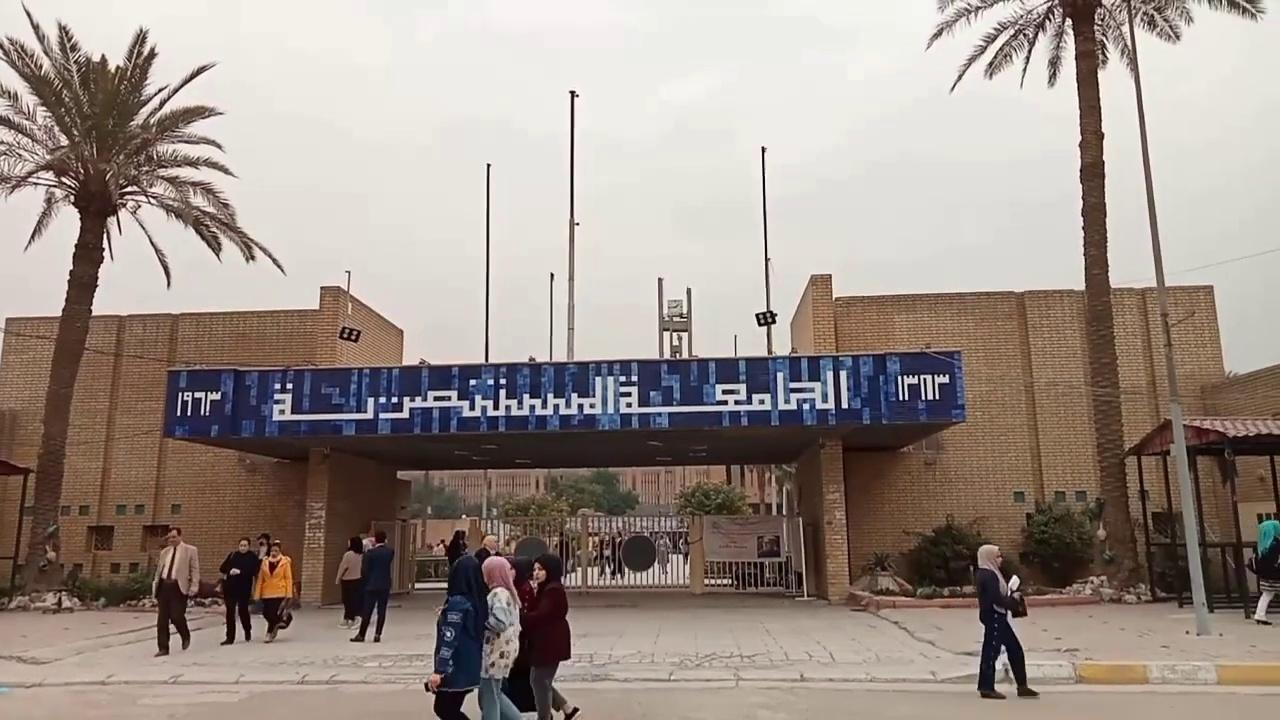person: (520, 553, 581, 719), (974, 543, 1039, 698), (151, 526, 200, 656), (349, 529, 394, 642), (215, 537, 259, 645), (252, 542, 294, 642), (1246, 514, 1279, 625), (334, 535, 364, 628), (249, 532, 271, 615), (655, 532, 671, 574)
tree: (923, 0, 1267, 597), (0, 1, 286, 598), (670, 478, 751, 593), (900, 511, 989, 589), (670, 478, 750, 517)
